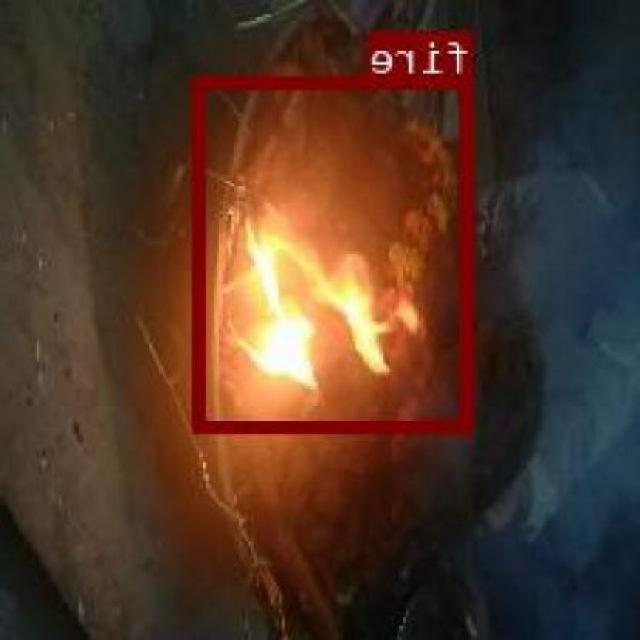Fire: (198, 74, 474, 430)
